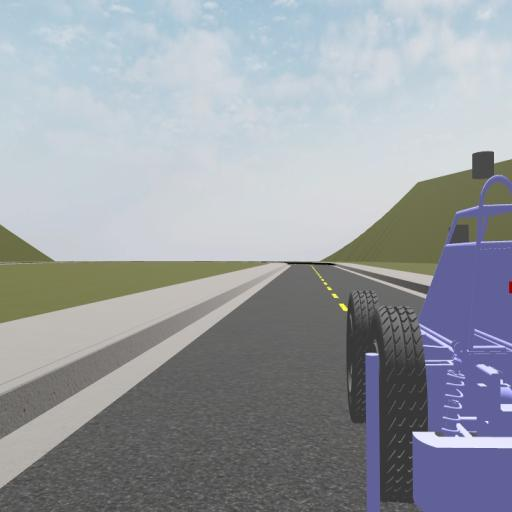ERP-42: (346, 158, 512, 508)
